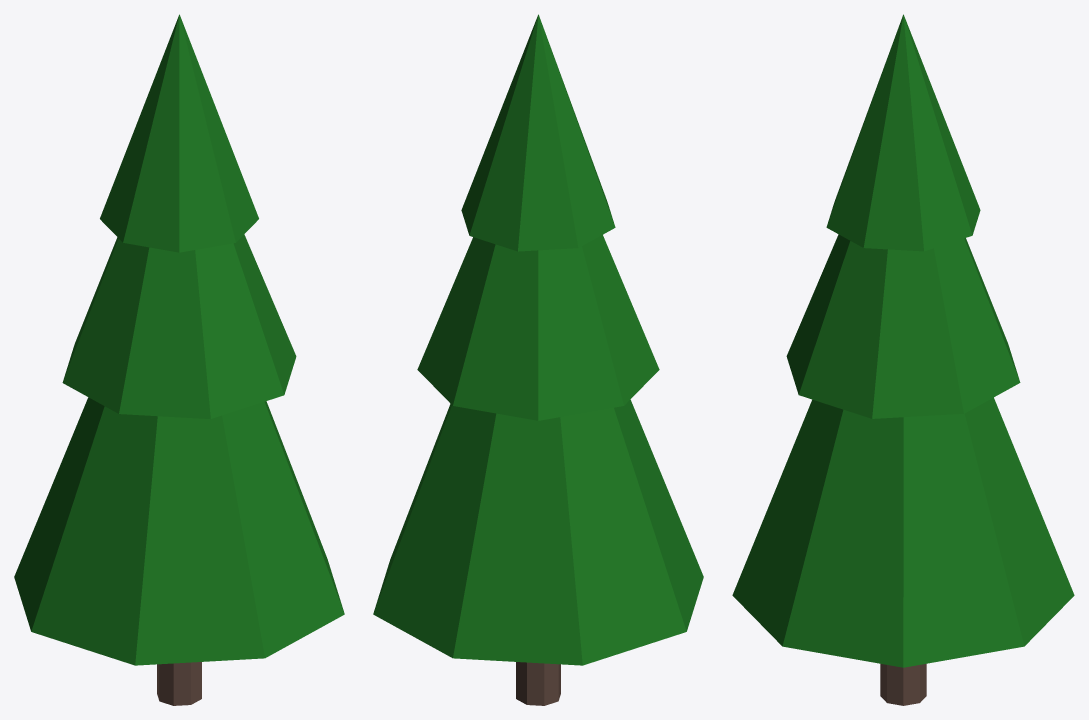
Rendered from pinetree1.fbx.
3 views of the same model, side by side, from view 1: azimuth 30°, elevation 25°; view 2: azimuth 150°, elevation 25°; view 3: azimuth 270°, elevation 25° (orthographic).
Parts seen in each view (by area): view 1: sapin1; view 2: sapin1; view 3: sapin1.
Boxes of the visible parts, x1,y1,x2,y2 form: sapin1: (14,14,344,705); sapin1: (373,14,703,705); sapin1: (732,14,1074,705).
Size of the model in its own units: 122 by 269 by 122.
